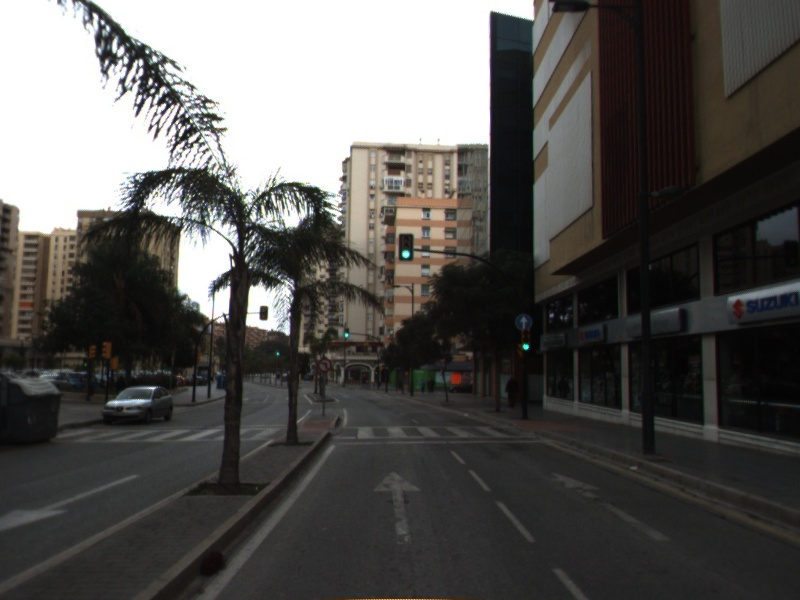STRAIGHT: (545, 466, 677, 546), (370, 467, 428, 548)
